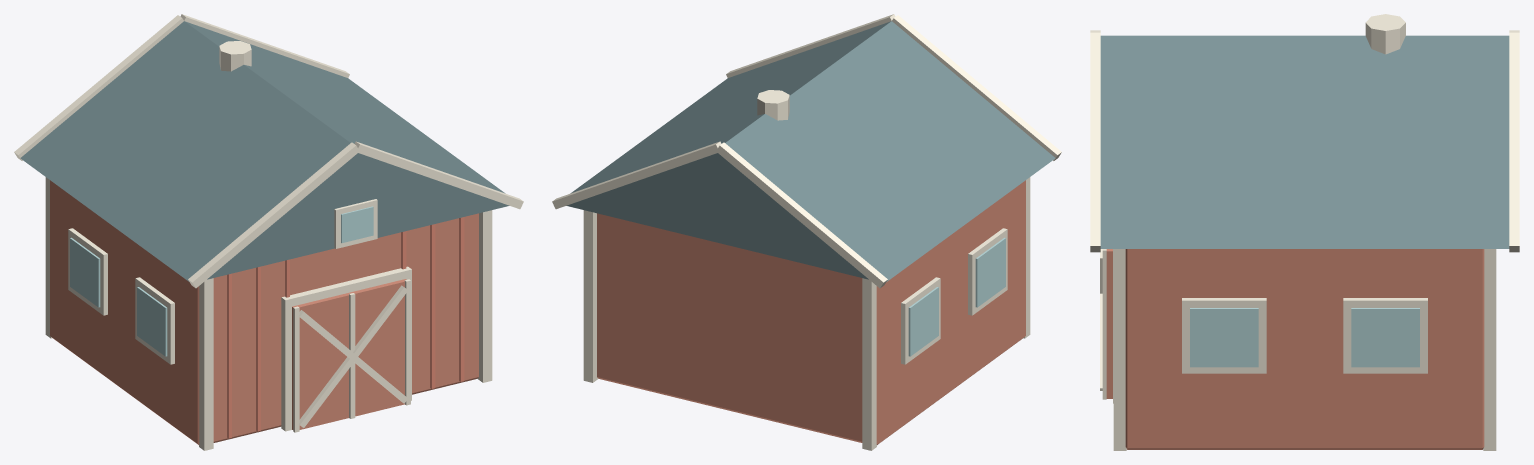
File: barn.glb
3 renders of one model, left to right at view 1: azimuth 30°, elevation 25°; view 2: azimuth 150°, elevation 25°; view 3: azimuth 270°, elevation 25°, orthographic. The views are drawn at different scales.
Visible parts, largest first — view 1: barn; view 2: barn; view 3: barn.
Part boxes in pixels (<box>): barn: <box>14,14,523,450</box>; barn: <box>552,14,1061,450</box>; barn: <box>1090,14,1519,450</box>.
Bounding box in the file's own units: 5.71 × 4.7 × 5.32.
